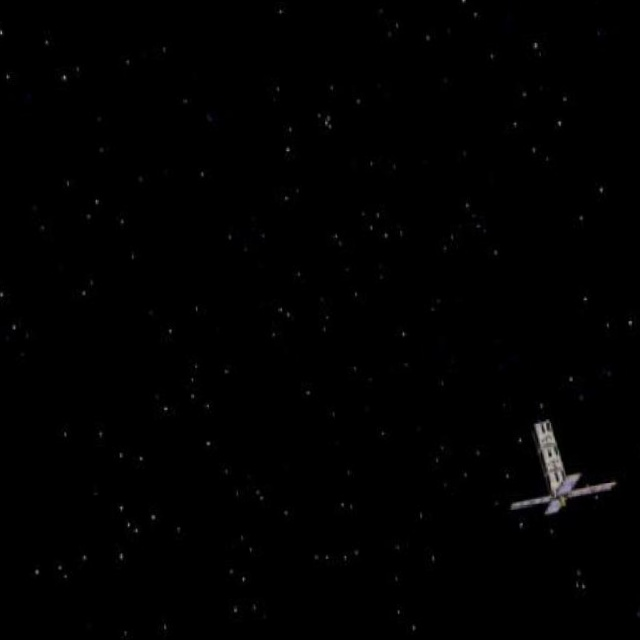satellite: (496, 393, 620, 529)
